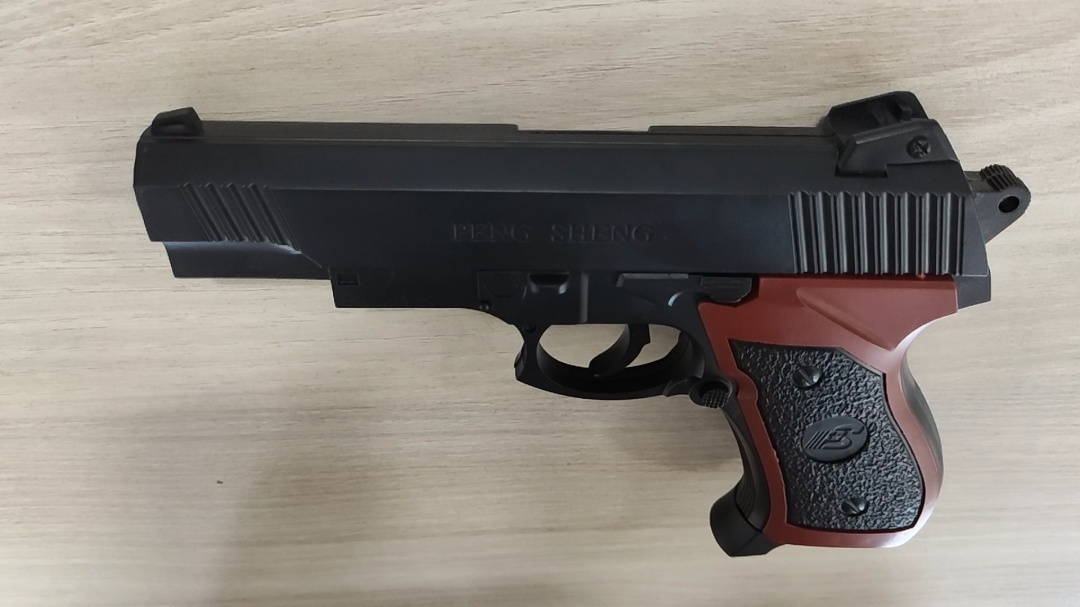gun: (124, 88, 1027, 562)
